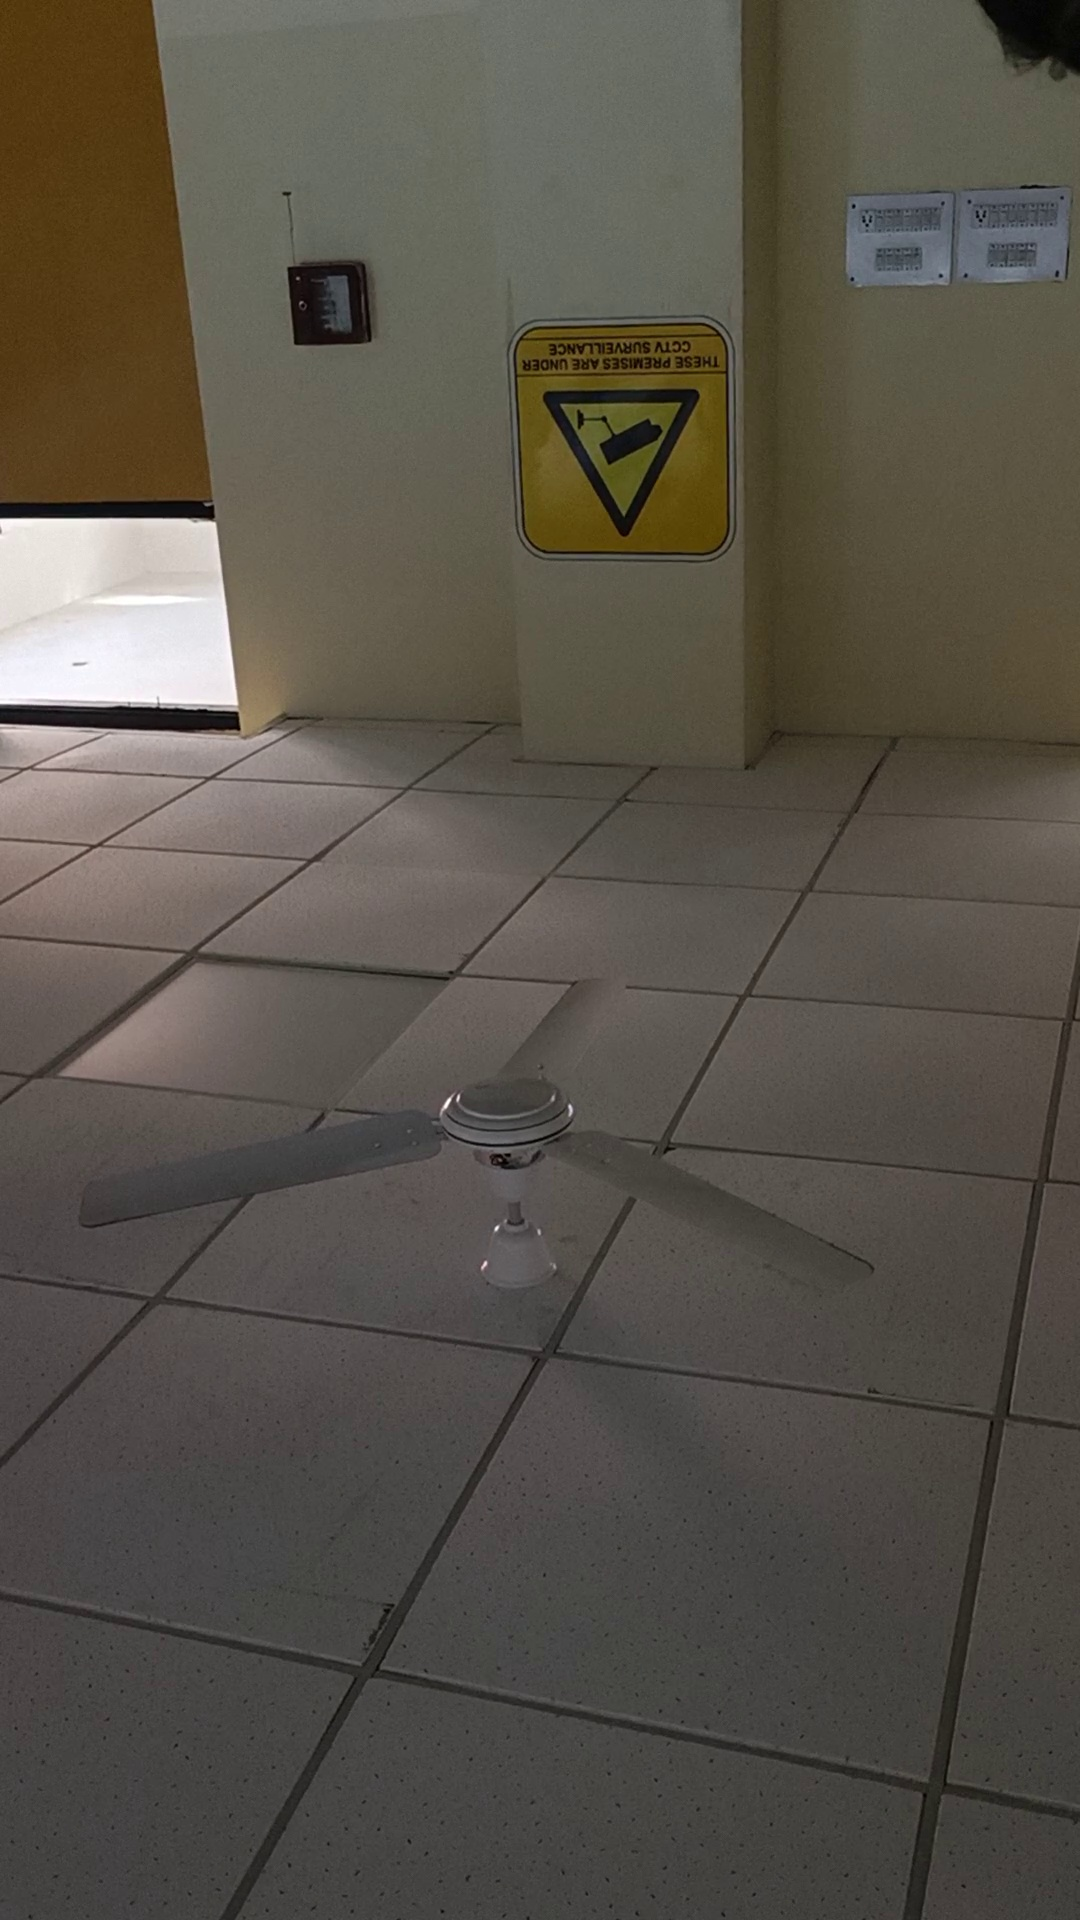fan: (66, 949, 898, 1407)
